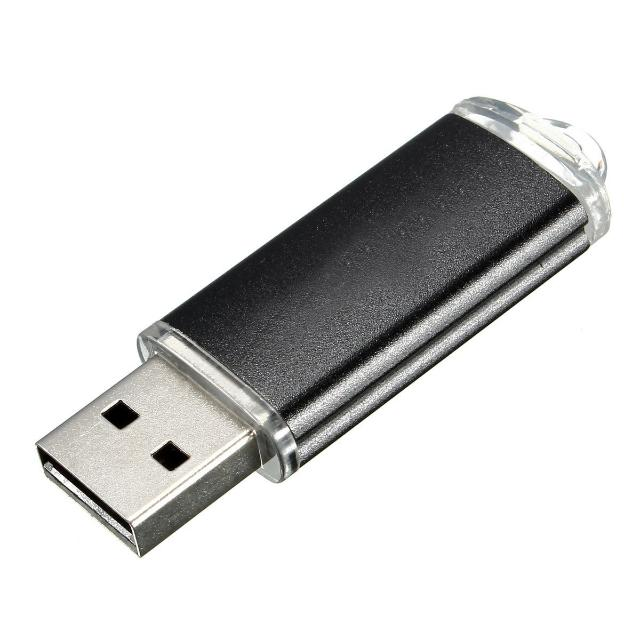USB-Flash-Drive: (26, 82, 624, 570)
